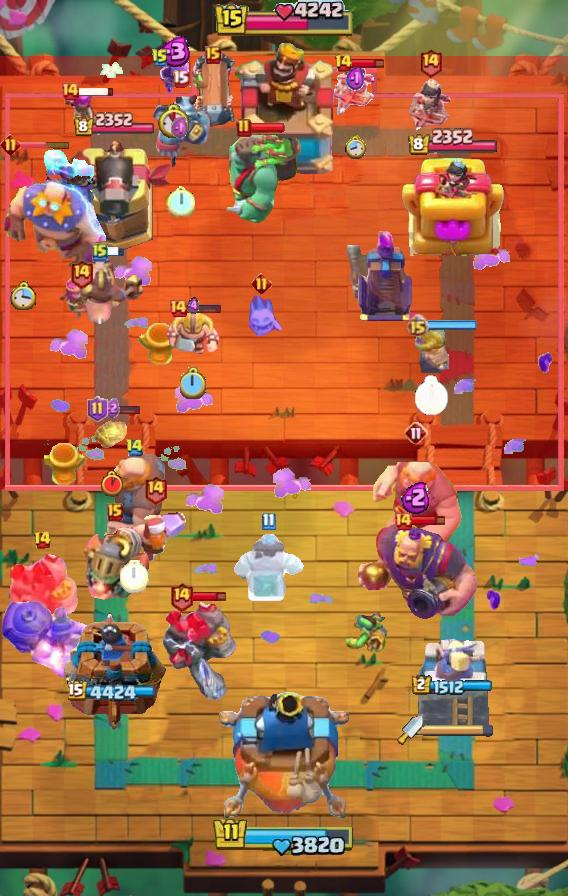balloon: (369, 450, 463, 552), (100, 449, 168, 551)
bar: (416, 637, 490, 731)
bat: (239, 296, 283, 342)
battle-healer: (189, 52, 237, 132)
bomb-tower: (347, 245, 385, 305)
cannon: (58, 278, 104, 324), (63, 91, 103, 131)
cannoneer-tower: (161, 598, 239, 700), (6, 554, 78, 648)
clock: (212, 816, 356, 858), (213, 0, 355, 40)
electro-spirit: (155, 37, 193, 68), (400, 480, 431, 514), (347, 65, 366, 93), (170, 116, 189, 140), (104, 398, 120, 418), (187, 297, 199, 315)
elixir: (414, 375, 449, 416), (159, 104, 189, 138), (165, 185, 194, 217), (119, 560, 148, 592), (180, 367, 207, 399), (11, 281, 38, 310), (101, 471, 123, 498), (344, 133, 366, 158)
elixir-golem-small: (150, 91, 210, 169)
emote: (427, 320, 478, 330), (17, 139, 71, 148), (410, 513, 446, 526), (350, 58, 385, 71), (192, 590, 227, 603), (250, 122, 286, 134), (186, 302, 222, 314), (106, 403, 142, 415), (77, 87, 114, 98), (106, 246, 125, 258)
freeze: (78, 257, 146, 329)
giant-snowball: (341, 611, 389, 653)
goblin: (159, 62, 189, 98)
goblin-giant: (166, 308, 220, 356), (413, 327, 449, 373)
ice-spirit-evolution: (92, 408, 132, 452)
ice-spirit-evolution-symbol: (355, 231, 415, 323)
king-tower: (219, 692, 349, 826), (228, 41, 340, 181)
king-tower-bar: (423, 723, 495, 737)
lava-hound: (215, 131, 303, 225)
lightning: (353, 523, 478, 621)
little-prince: (0, 143, 106, 271)
mighty-miner: (123, 505, 187, 575)
night-witch: (80, 526, 150, 600)
queen-tower: (62, 613, 166, 731), (401, 156, 505, 256)
rage: (230, 533, 306, 601)
selected: (407, 127, 499, 156), (72, 112, 155, 138), (68, 680, 160, 703), (412, 675, 494, 697)
skeleton-dragon: (407, 79, 453, 137), (333, 61, 377, 121)
text: (417, 46, 442, 77), (69, 259, 94, 290), (170, 581, 195, 612), (144, 475, 169, 505), (404, 421, 428, 445), (87, 396, 108, 422), (406, 314, 429, 337), (252, 273, 273, 294), (0, 133, 20, 154), (60, 81, 80, 101), (168, 298, 188, 318), (393, 511, 413, 531), (335, 53, 354, 73), (33, 530, 52, 550), (151, 48, 169, 68), (124, 439, 143, 457), (171, 69, 188, 88), (236, 118, 252, 138), (92, 242, 108, 262), (205, 46, 221, 64), (107, 503, 123, 521), (261, 512, 275, 531)
tower-bar: (53, 138, 175, 256)
wizard: (0, 600, 124, 678)
